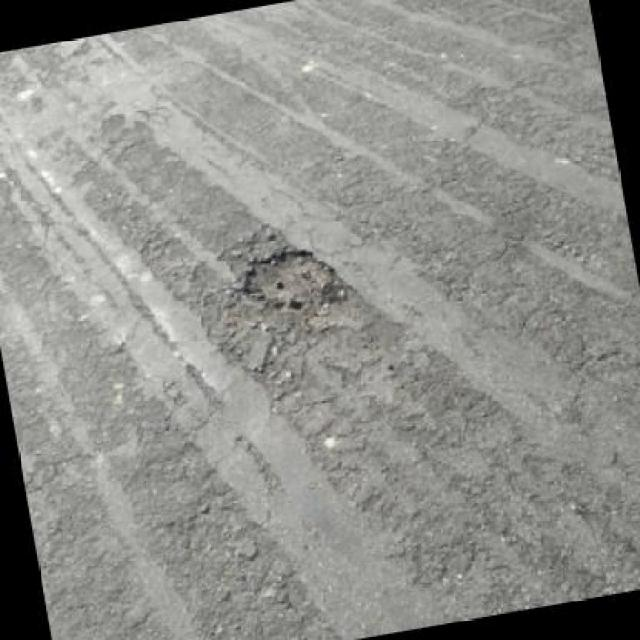pothole1: (232, 238, 346, 319)
